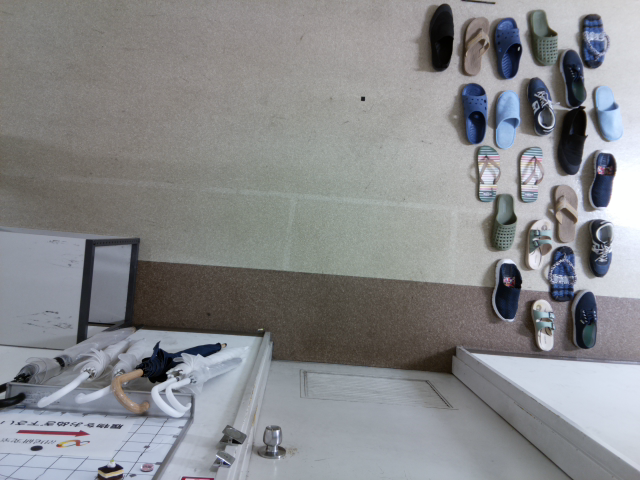Copy of Copy of Copy of Copy of Copy of Copy of Copy of Copy of Copy of Copy of: (545, 178, 583, 246), (543, 239, 581, 307), (590, 78, 627, 146), (582, 146, 619, 214), (583, 215, 620, 283), (567, 286, 604, 354)
Copy of Copy of Copy of Copy of Copy of Copy of Copy of Copy of Copy of shoe: (575, 5, 613, 72), (487, 189, 521, 254)
Copy of Copy of Copy of Copy of Copy of Copy of Copy of Copy of shoe: (556, 42, 593, 110), (515, 141, 549, 207)
Copy of Copy of Copy of Copy of Copy of Copy of Copy of shoe: (549, 100, 591, 182), (469, 142, 506, 205)
Copy of Copy of Copy of Copy of Copy of Copy of shoe: (520, 211, 556, 280), (522, 73, 558, 136)
Copy of Copy of Copy of Copy of Copy of shoe: (525, 294, 561, 363), (524, 4, 561, 69)
Copy of Copy of Copy of Copy of Copy of umbrella: (165, 338, 260, 420)
Copy of Copy of Copy of Copy of shoe: (488, 10, 524, 80), (488, 256, 525, 324)
Copy of Copy of Copy of Copy of umbrella: (146, 340, 265, 419)
Copy of Copy of Copy of shoe: (489, 85, 525, 153)
Copy of Copy of Copy of umbrella: (100, 336, 234, 415)
Copy of Copy of shoe: (455, 76, 491, 150)
Copy of Copy of umbrella: (65, 322, 164, 411)
Copy of shoe: (457, 9, 493, 82)
Copy of umbrella: (31, 319, 157, 412)
shoe: (424, 1, 458, 78)
umbrella: (1, 318, 146, 411)
